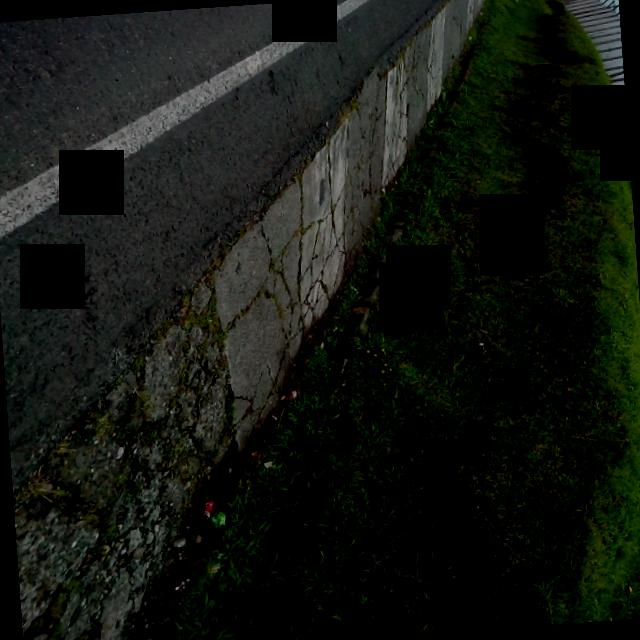DITCH: (0, 0, 535, 640), (0, 0, 526, 640)
